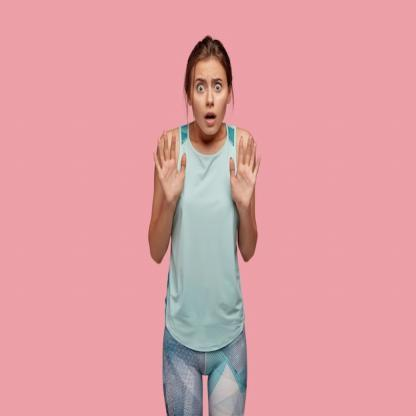stop: (151, 128, 189, 202), (228, 130, 262, 209)
